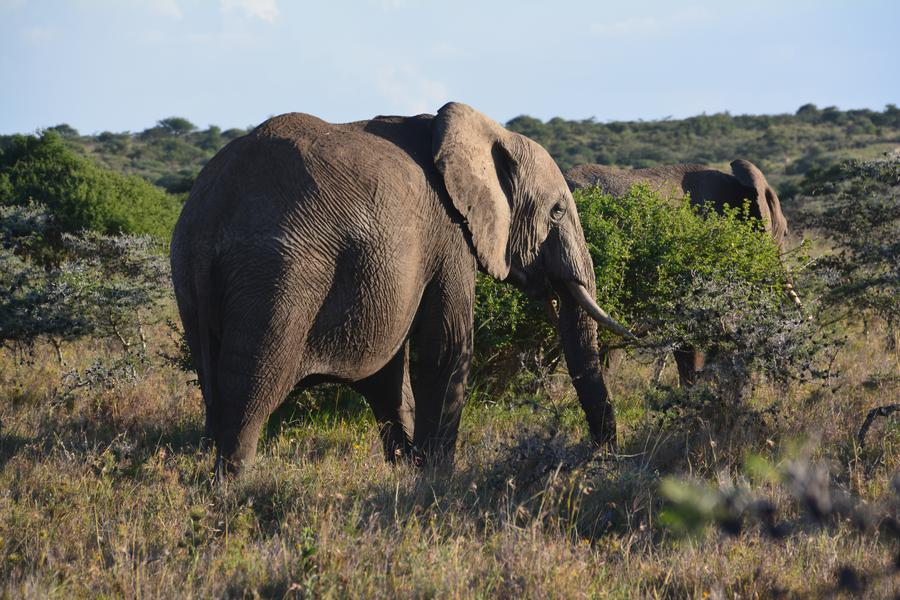elephant: (168, 108, 622, 448)
